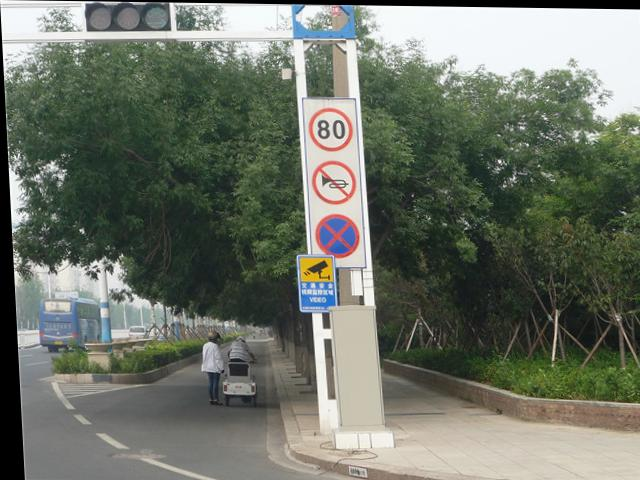limit80: (307, 104, 353, 154)
